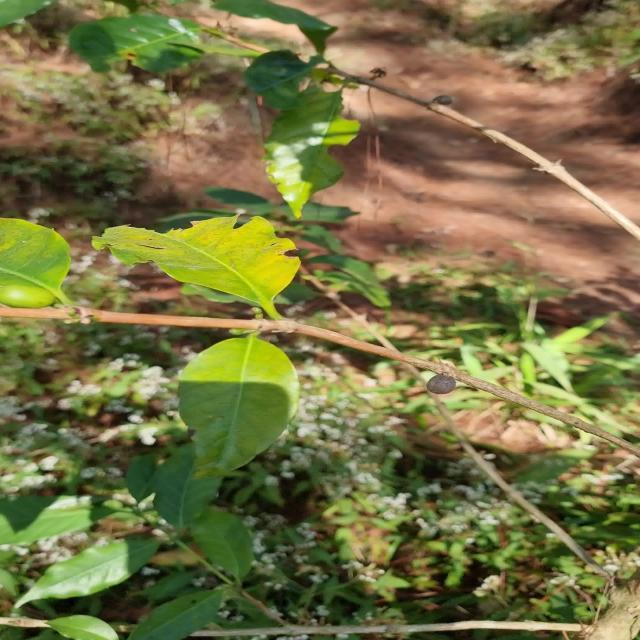leaves: (86, 193, 304, 318), (158, 322, 320, 483)
